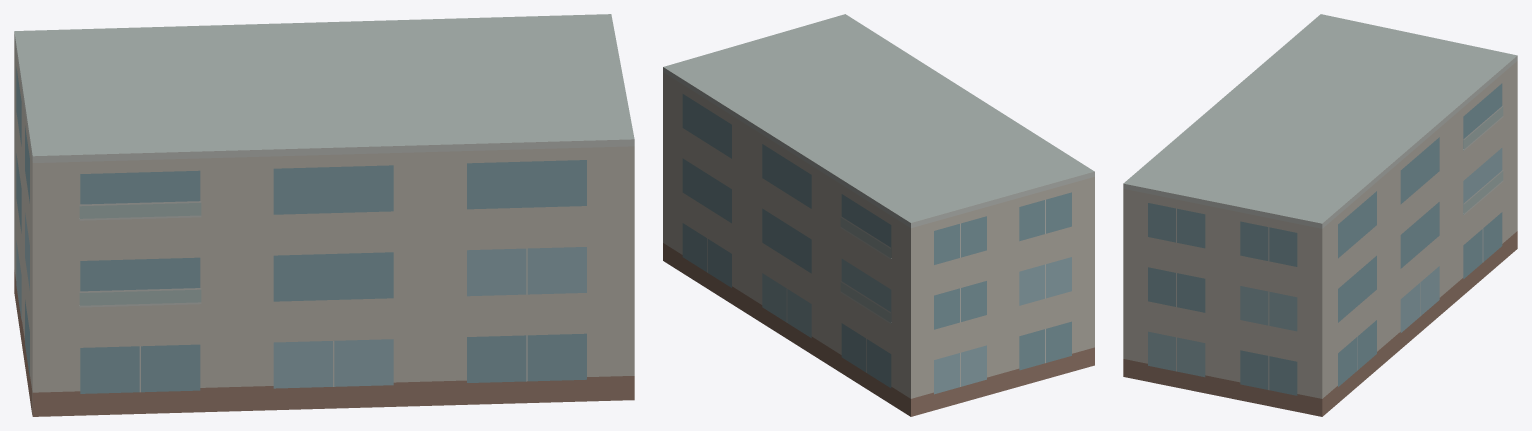
Rendered from survey-upis-32887862.glb.
The picture shows the model from 3 angles, left to right: view 1: azimuth 30°, elevation 25°; view 2: azimuth 150°, elevation 25°; view 3: azimuth 270°, elevation 25°; orthographic projection. The views are drawn at different scales.
Visible parts, largest first — view 1: survey-upis-32887862.tmp; view 2: survey-upis-32887862.tmp; view 3: survey-upis-32887862.tmp.
Boxes of the visible parts, x1,y1,x2,y2 form: survey-upis-32887862.tmp: (14,14,634,416); survey-upis-32887862.tmp: (663,14,1094,416); survey-upis-32887862.tmp: (1123,14,1517,416).
Size of the model in its own units: 21.3 by 9.15 by 16.94.
